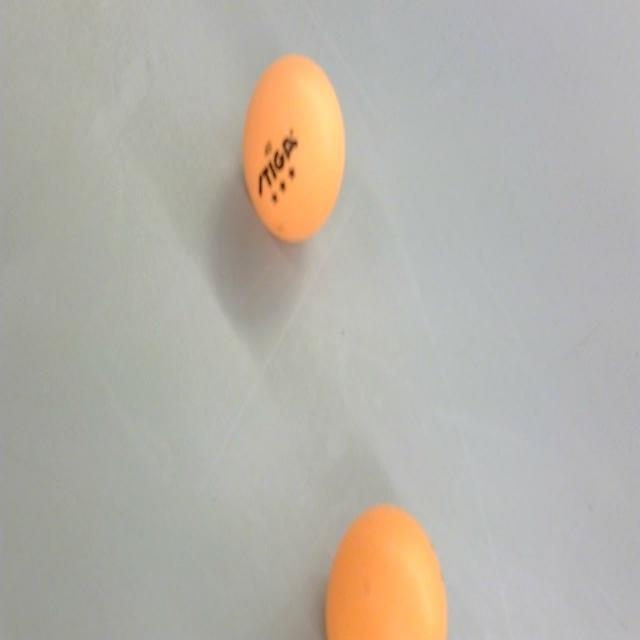ball: (240, 49, 348, 248), (322, 500, 450, 640)
